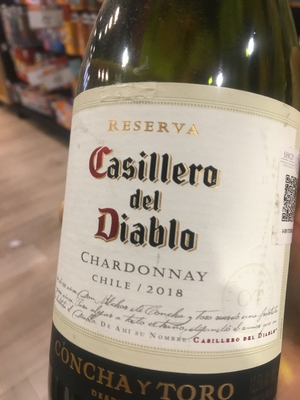casillero del diablo chardonnay: (45, 10, 300, 396)
